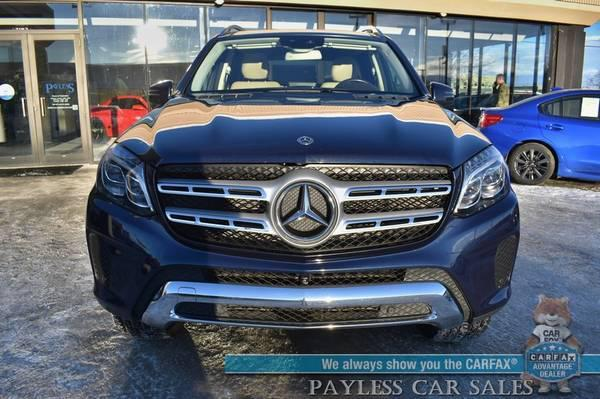Front_Bumper: (86, 184, 518, 334)
Front_Windshield: (178, 38, 427, 96)
Grille: (150, 159, 459, 254)
Hood: (116, 95, 492, 166)
Left_Headlight: (453, 142, 510, 215)
Left_Mirror: (428, 83, 452, 105)
Right_Headlight: (93, 137, 155, 215)
Right_Mirror: (147, 79, 172, 107)
